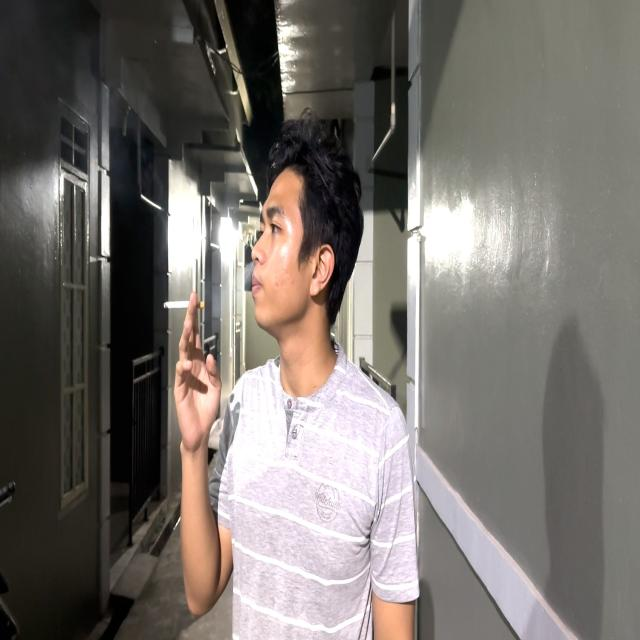cigarette: (159, 294, 217, 321)
smoking: (156, 98, 381, 622)
